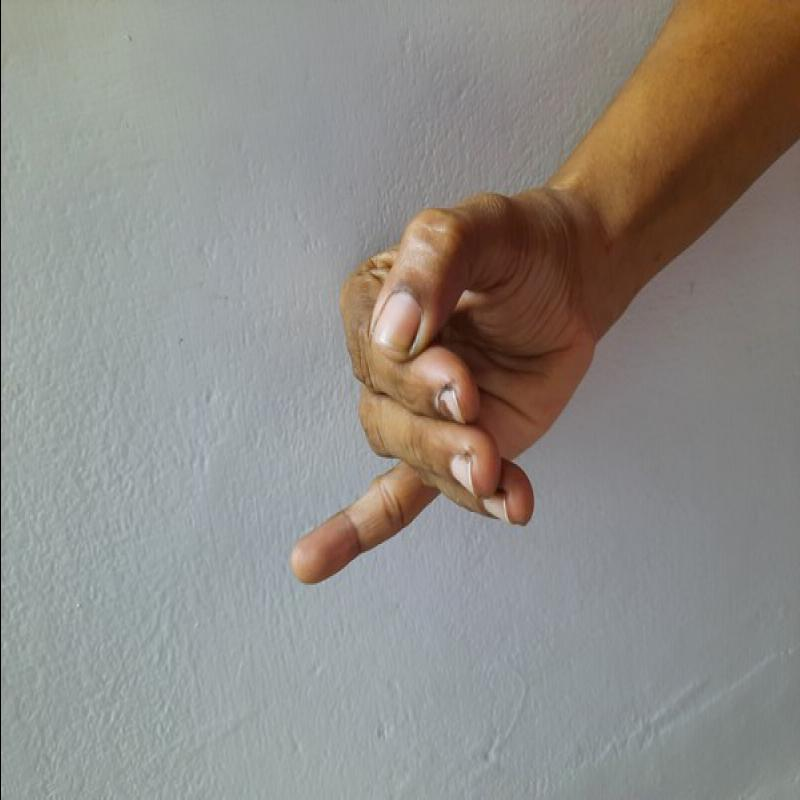Kartharee Mukham: (268, 185, 624, 600)
